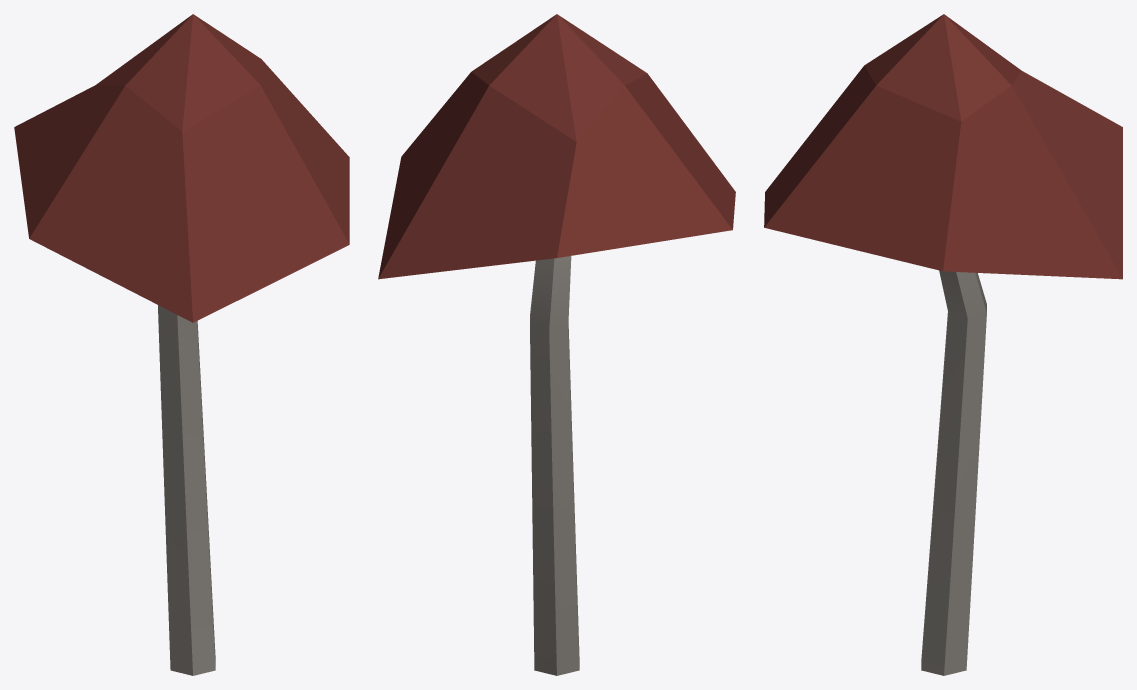
Rendered from mushroom.glb.
3 views of the same model, side by side, from view 1: azimuth 30°, elevation 25°; view 2: azimuth 150°, elevation 25°; view 3: azimuth 270°, elevation 25° (orthographic).
Visible parts, largest first — view 1: SM_Env_Dungeon_Mushroom_01; view 2: SM_Env_Dungeon_Mushroom_01; view 3: SM_Env_Dungeon_Mushroom_01.
Boxes of the visible parts, box(x1,y1,x2,y2) form: SM_Env_Dungeon_Mushroom_01: box(14, 14, 349, 675); SM_Env_Dungeon_Mushroom_01: box(378, 14, 735, 675); SM_Env_Dungeon_Mushroom_01: box(764, 14, 1122, 675).
Size of the model in its own units: 0.5193 by 0.9903 by 0.4947.
Materials: 1 (1 with a texture image).
